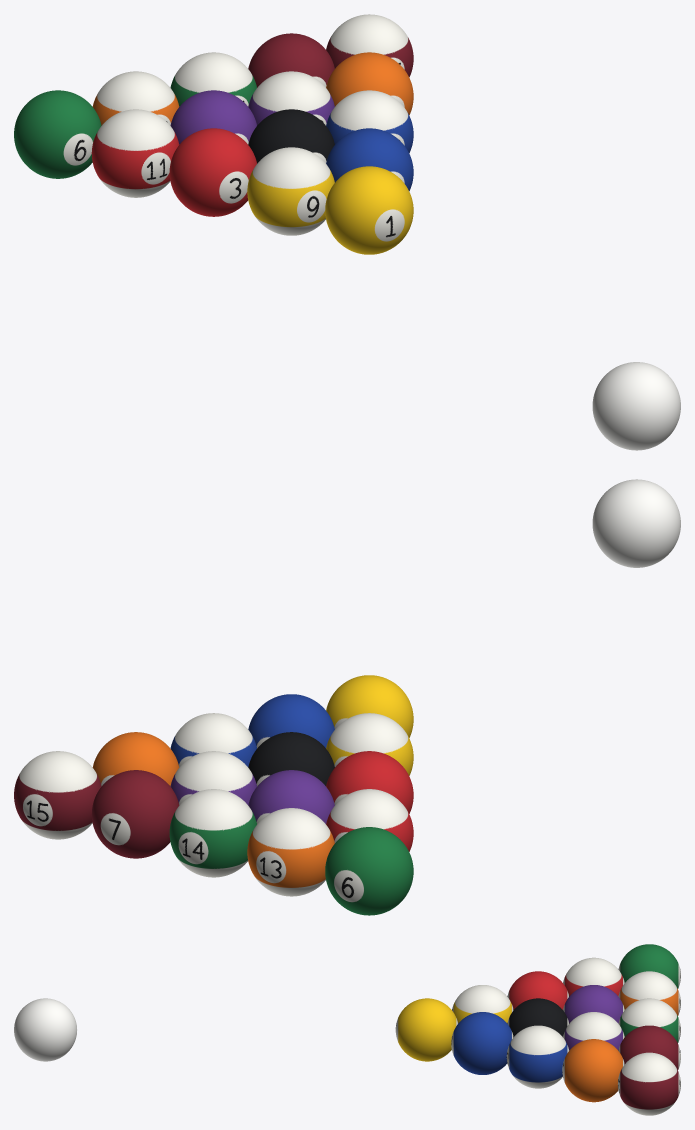
File: eight-ball-set.gltf
3 views of the same model, one above another, from view 1: azimuth 30°, elevation 25°; view 2: azimuth 150°, elevation 25°; view 3: azimuth 270°, elevation 25° (orthographic). The views are drawn at different scales.
Parts seen in each view (by area): view 1: Ball_01, CueBall, Ball_09, Ball_03, Ball_11, Ball_06, Ball_10, Ball_05, Ball_15, Ball_02, Ball_08, Ball_13 (+4 smaller); view 2: Ball_06, CueBall, Ball_13, Ball_14, Ball_07, Ball_15, Ball_01, Ball_03, Ball_11, Ball_09, Ball_05, Ball_02 (+4 smaller); view 3: CueBall, Ball_15, Ball_01, Ball_10, Ball_05, Ball_02, Ball_14, Ball_07, Ball_13, Ball_06, Ball_03, Ball_08 (+4 smaller).
Part boxes in pixels (x1,y1,x2,y2): Ball_01: [325, 166, 413, 254]; CueBall: [592, 362, 680, 450]; Ball_09: [247, 147, 334, 235]; Ball_03: [169, 128, 256, 216]; Ball_11: [91, 109, 179, 197]; Ball_06: [14, 90, 101, 178]; Ball_10: [326, 90, 413, 153]; Ball_05: [326, 52, 413, 115]; Ball_15: [326, 14, 413, 77]; Ball_02: [326, 128, 413, 191]; Ball_08: [248, 109, 334, 163]; Ball_13: [92, 71, 179, 125]; Ball_06: [325, 827, 413, 915]; CueBall: [592, 479, 680, 567]; Ball_13: [247, 808, 334, 896]; Ball_14: [169, 789, 256, 877]; Ball_07: [91, 770, 179, 858]; Ball_15: [14, 751, 101, 839]; Ball_01: [326, 675, 413, 737]; Ball_03: [326, 751, 413, 813]; Ball_11: [326, 789, 413, 851]; Ball_09: [326, 713, 413, 775]; Ball_05: [92, 732, 179, 786]; Ball_02: [248, 694, 334, 748]; CueBall: [14, 998, 76, 1061]; Ball_15: [618, 1052, 680, 1115]; Ball_01: [395, 998, 457, 1061]; Ball_10: [506, 1025, 569, 1088]; Ball_05: [562, 1039, 624, 1102]; Ball_02: [451, 1012, 513, 1074]; Ball_14: [618, 998, 680, 1042]; Ball_07: [618, 1025, 680, 1069]; Ball_13: [618, 971, 680, 1015]; Ball_06: [618, 944, 680, 988]; Ball_03: [507, 971, 569, 1009]; Ball_08: [507, 998, 569, 1036].
Size of the model in its own units: 0.506 by 0.1 by 1.06.
16 materials, 15 textured.
